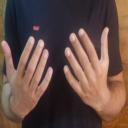hand: (62, 26, 126, 121), (0, 34, 53, 120)
